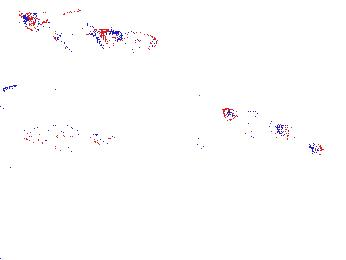red belly glassfish: (303, 136, 324, 159)
redtail glassfish: (19, 11, 116, 52), (22, 123, 116, 152), (220, 106, 288, 143), (108, 70, 168, 93), (114, 29, 158, 50)
